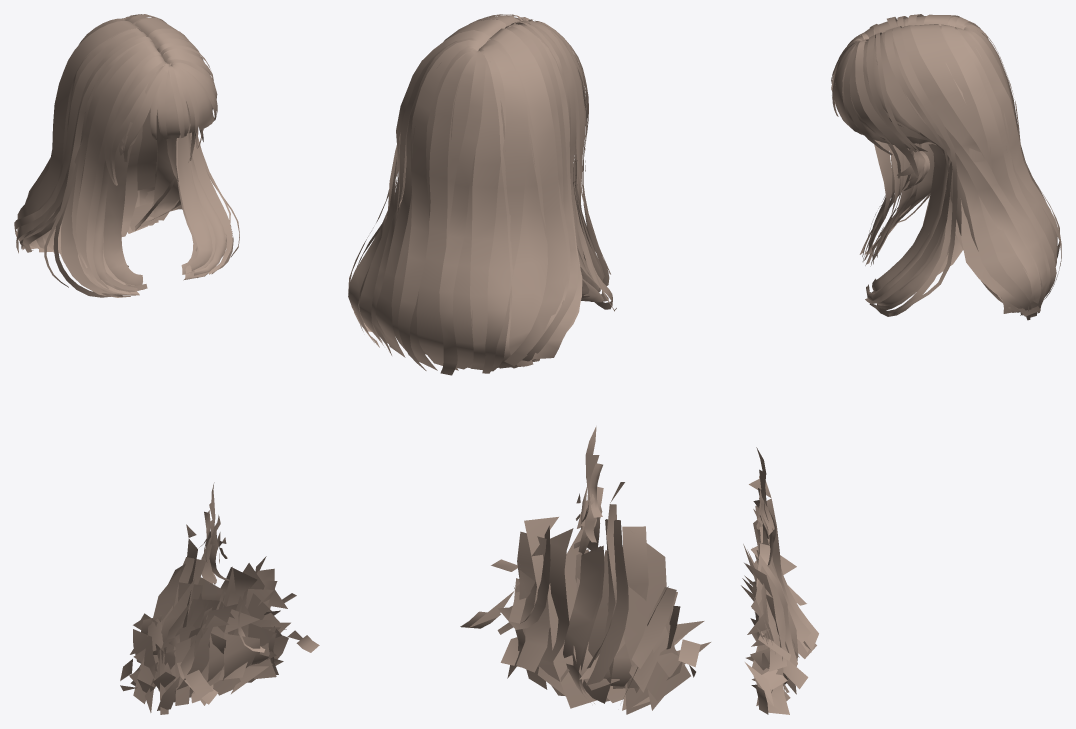
Rendered from female_hair_07_lod0.glb.
3 views of the same model, side by side, from view 1: azimuth 30°, elevation 25°; view 2: azimuth 150°, elevation 25°; view 3: azimuth 270°, elevation 25° (orthographic). The views are drawn at different scales.
Visible parts, largest first — view 1: female-hair-07; view 2: female-hair-07; view 3: female-hair-07.
Boxes of the visible parts, bbox=[...] form: female-hair-07: bbox=[14, 14, 319, 714]; female-hair-07: bbox=[348, 14, 710, 714]; female-hair-07: bbox=[741, 14, 1061, 714].
Bounding box in the file's own units: 0.2935 × 0.8666 × 0.3734.
